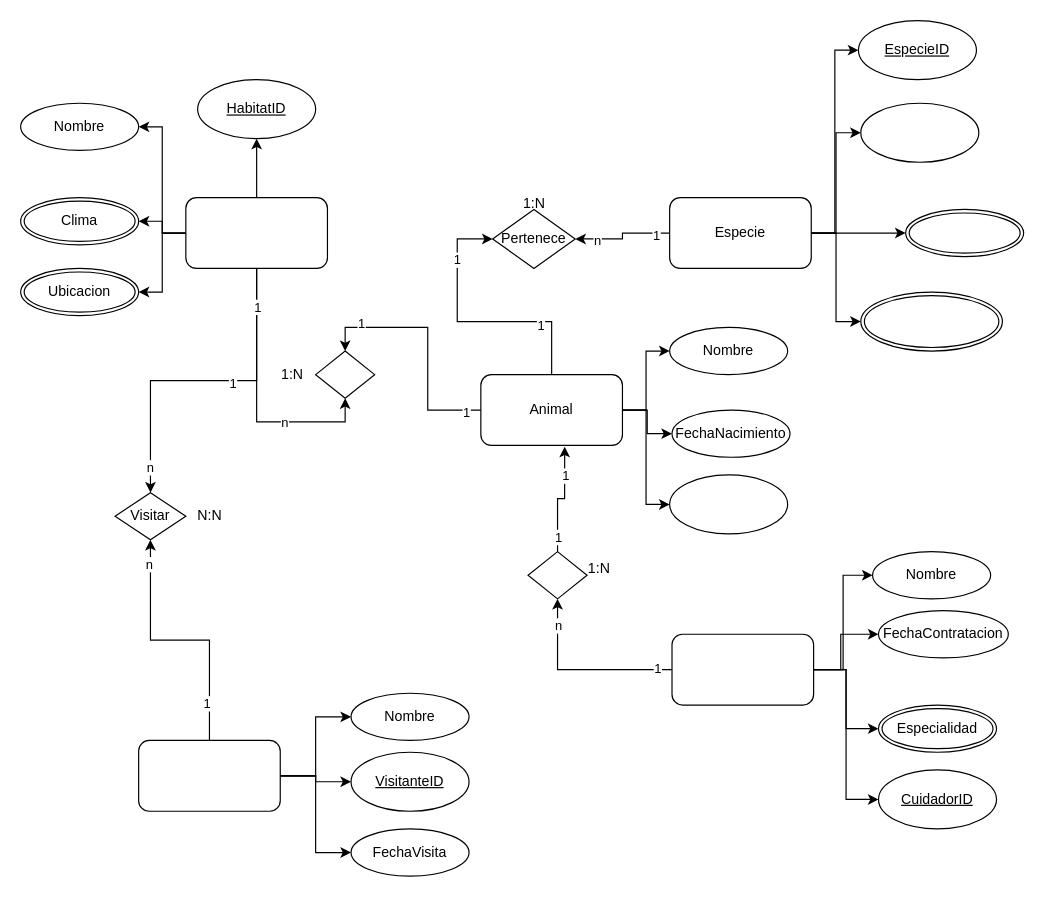
Image size: 1044x897. Some labels were removed from this diagram. The shapes that lost their labels are listed below. From the top down, each one's box as (x1, y1, x2, y2) in pixels, then its label:
(860, 102, 979, 162): NombreCientifico
(185, 196, 327, 268): Habitat
(904, 208, 1024, 257): Familia
(860, 291, 1002, 351): EstadoConservacion
(314, 350, 375, 398): Vive
(668, 474, 788, 534): AnimalID
(527, 550, 587, 599): Cargo
(671, 633, 814, 705): Cuidador
(137, 739, 280, 811): Visitante
